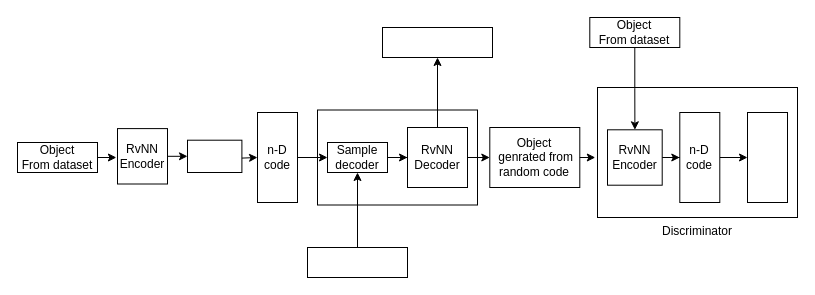
This 815x295 diagram has some shape labels left out. Here are the shapes that lost their labels. From the top down, the box of each, then its label:
(382, 26, 492, 58): Object genrated from true sample
(186, 139, 242, 172): Sampler
(316, 109, 478, 205): Generator
(746, 112, 788, 202): True/ False
(306, 246, 408, 278): Random sampled code
